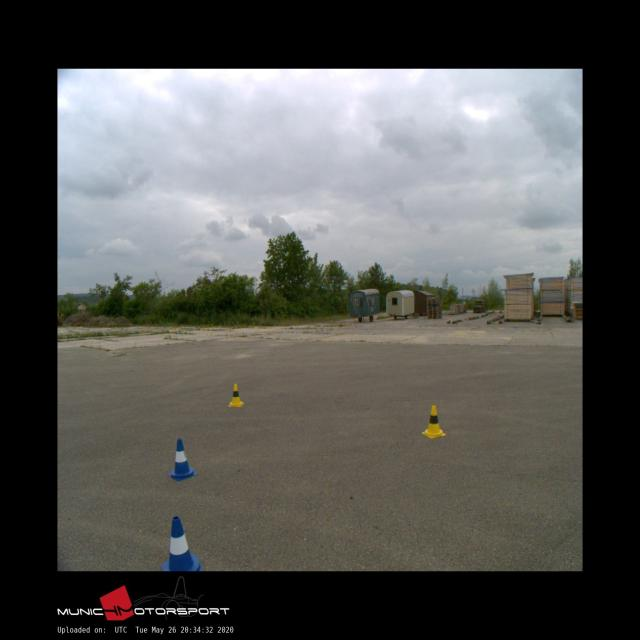blue_cone: (162, 516, 202, 571), (168, 439, 196, 480)
yellow_cone: (422, 405, 444, 437), (228, 384, 244, 406)
